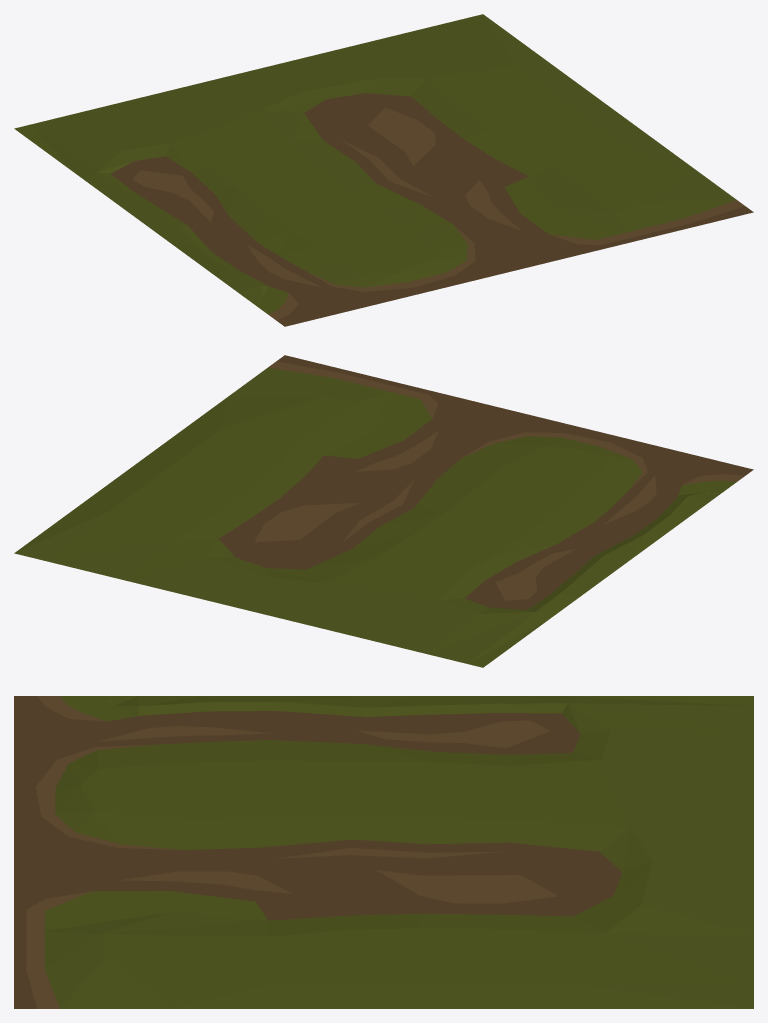
File: SM_parcel_01.glb
3 renders of one model, top to bottom at view 1: azimuth 30°, elevation 25°; view 2: azimuth 150°, elevation 25°; view 3: azimuth 270°, elevation 25°, orthographic. The views are drawn at different scales.
Visible parts, largest first — view 1: SM_parcel_01; view 2: SM_parcel_01; view 3: SM_parcel_01.
Boxes of the visible parts, box(x1,y1,x2,y2) form: SM_parcel_01: box(14, 14, 753, 326); SM_parcel_01: box(14, 355, 753, 667); SM_parcel_01: box(14, 696, 753, 1008).
Size of the model in its own units: 32 by 0.15 by 32.
1 material, 1 textured.
